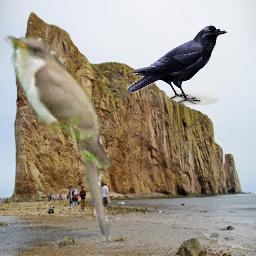Crow: (126, 25, 227, 105)
Cuckoo: (0, 30, 116, 245)
